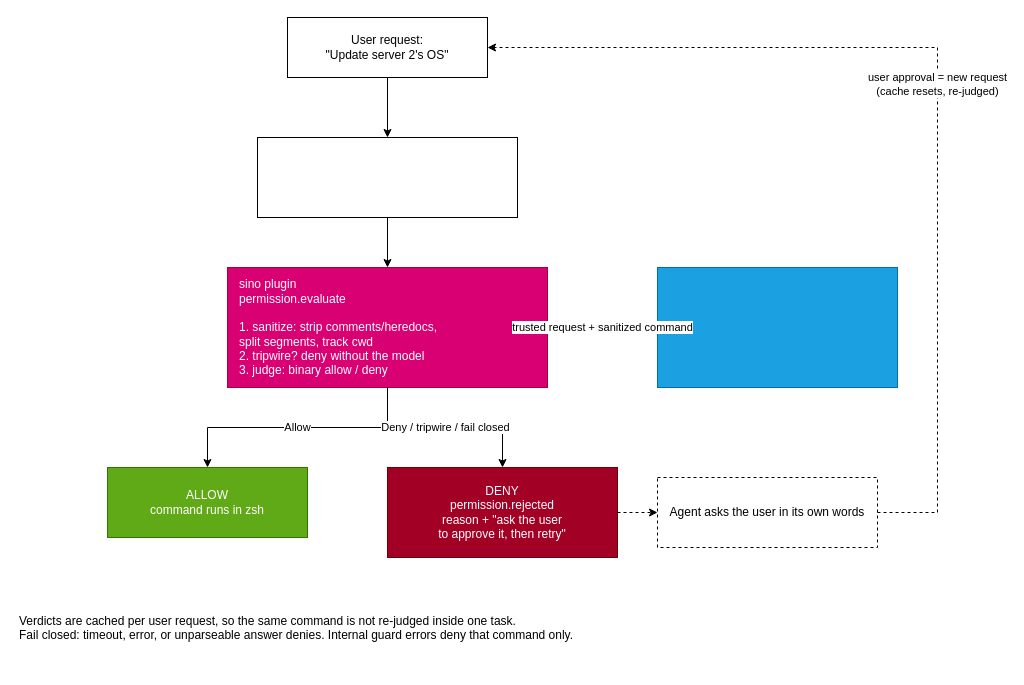
This 1024x685 diagram has some shape labels left out. Each missing label, with the centre of its shape:
Agent proposes a shell command: "sudo apt update" "sudo apt upgrade" "rm -rf /": (x=387, y=177)
GPT-6-Luna Decisions POST /v1/decisions Allow | Deny + reason + probability: (x=777, y=327)
